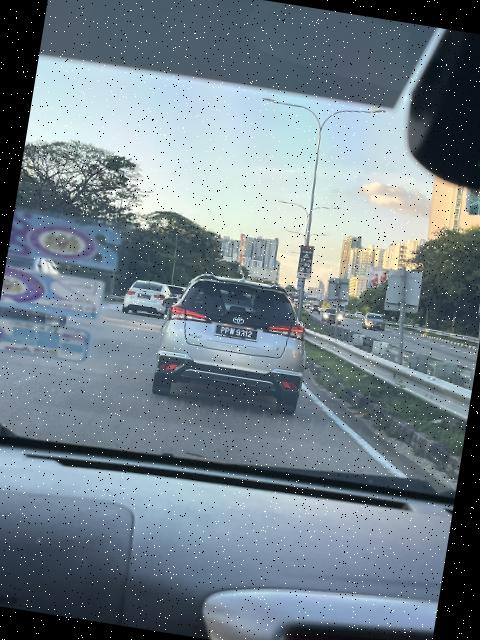License_Plate: (211, 320, 263, 347)
car: (153, 266, 318, 418), (122, 278, 174, 320)
